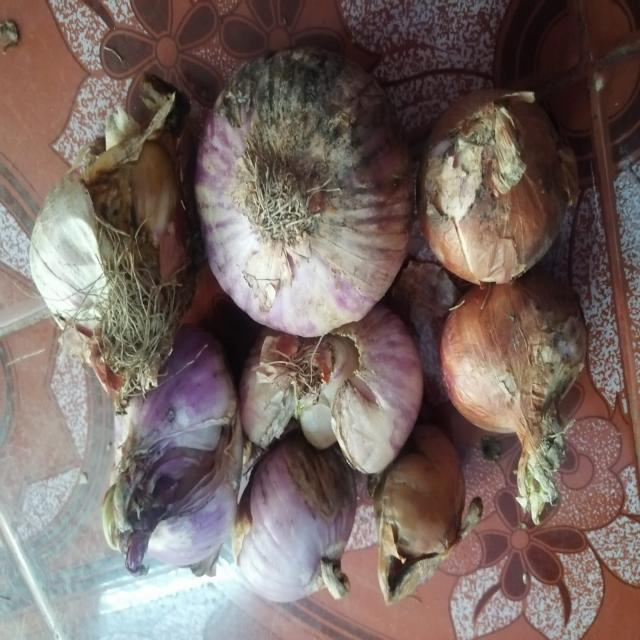rotten: (213, 49, 369, 131), (134, 444, 216, 511), (374, 524, 436, 592), (534, 332, 580, 389), (468, 185, 512, 242)
sprouting: (512, 443, 556, 517)
